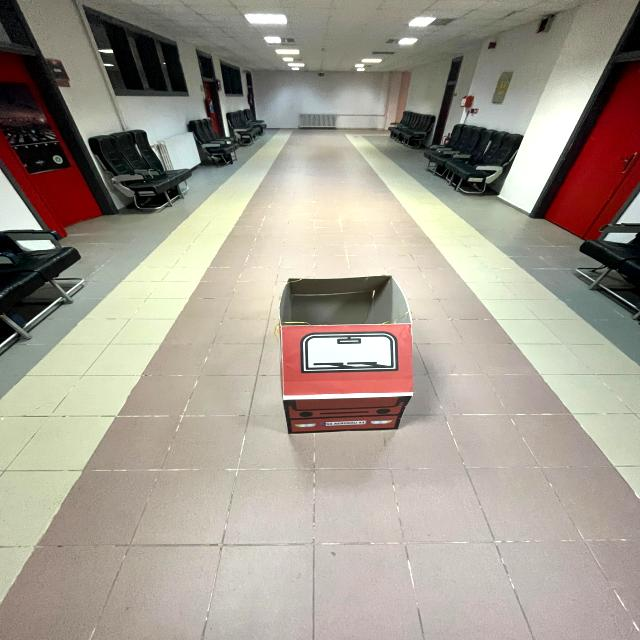red_car: (250, 260, 446, 457)
